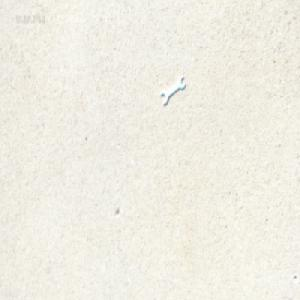Wrench: (161, 77, 184, 105)
